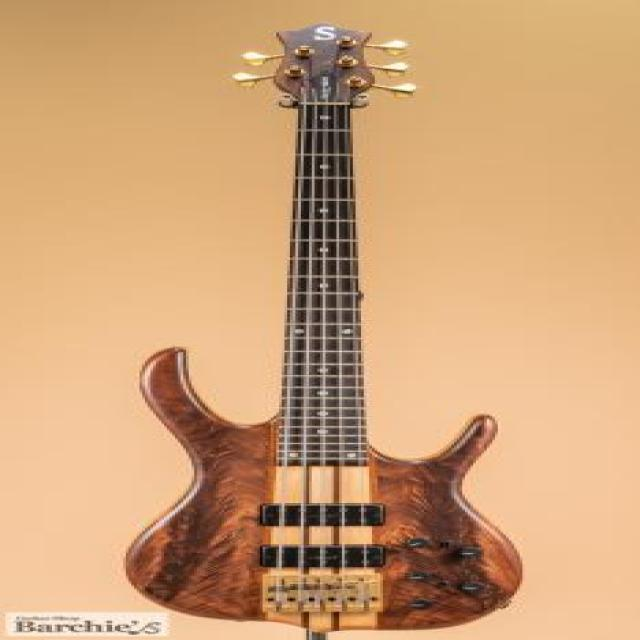bass: (126, 24, 520, 631)
